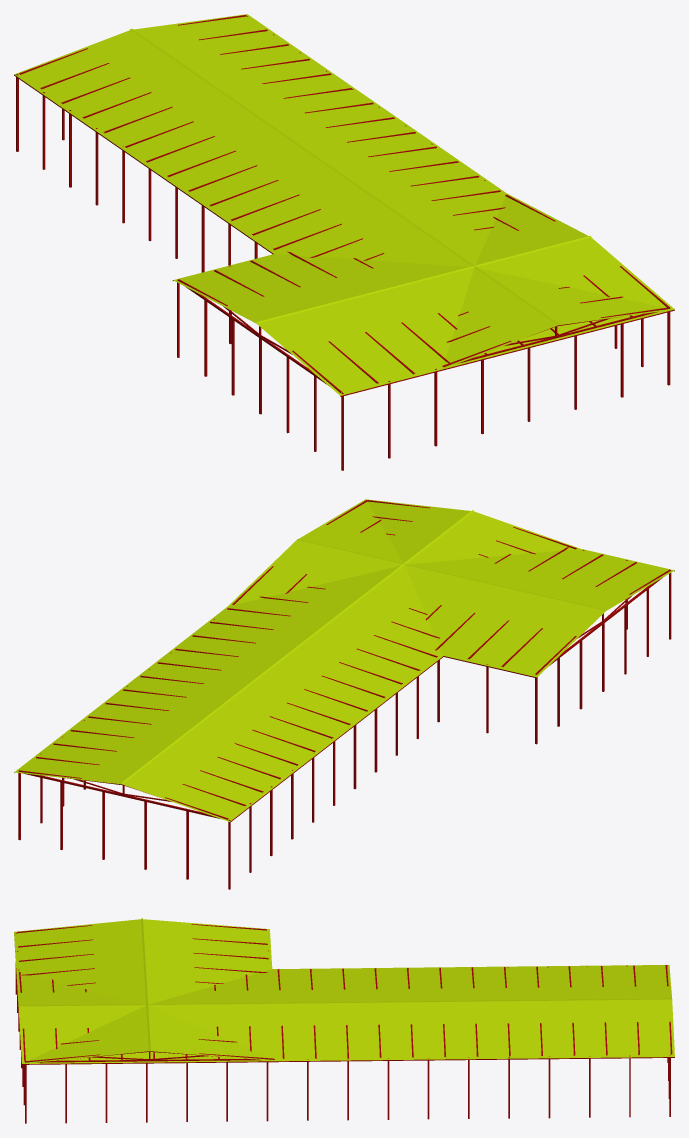
The model's file is ces_84.glb.
The picture shows the model from 3 angles, top to bottom: view 1: azimuth 30°, elevation 25°; view 2: azimuth 150°, elevation 25°; view 3: azimuth 270°, elevation 25°; orthographic projection. The views are drawn at different scales.
Visible parts, largest first — view 1: ces_84; view 2: ces_84; view 3: ces_84.
Part boxes in pixels (box(x1,y1,x2,y2)): ces_84: box(14, 14, 674, 470); ces_84: box(14, 499, 674, 889); ces_84: box(14, 918, 674, 1123).
Bounding box in the file's own units: 39.05 × 9.88 × 80.9.
